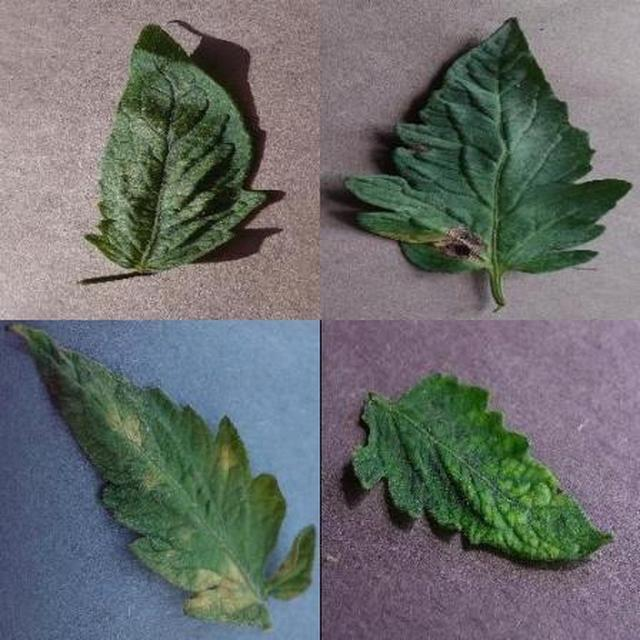Spider Mites Leaf: (229, 210, 640, 640)
